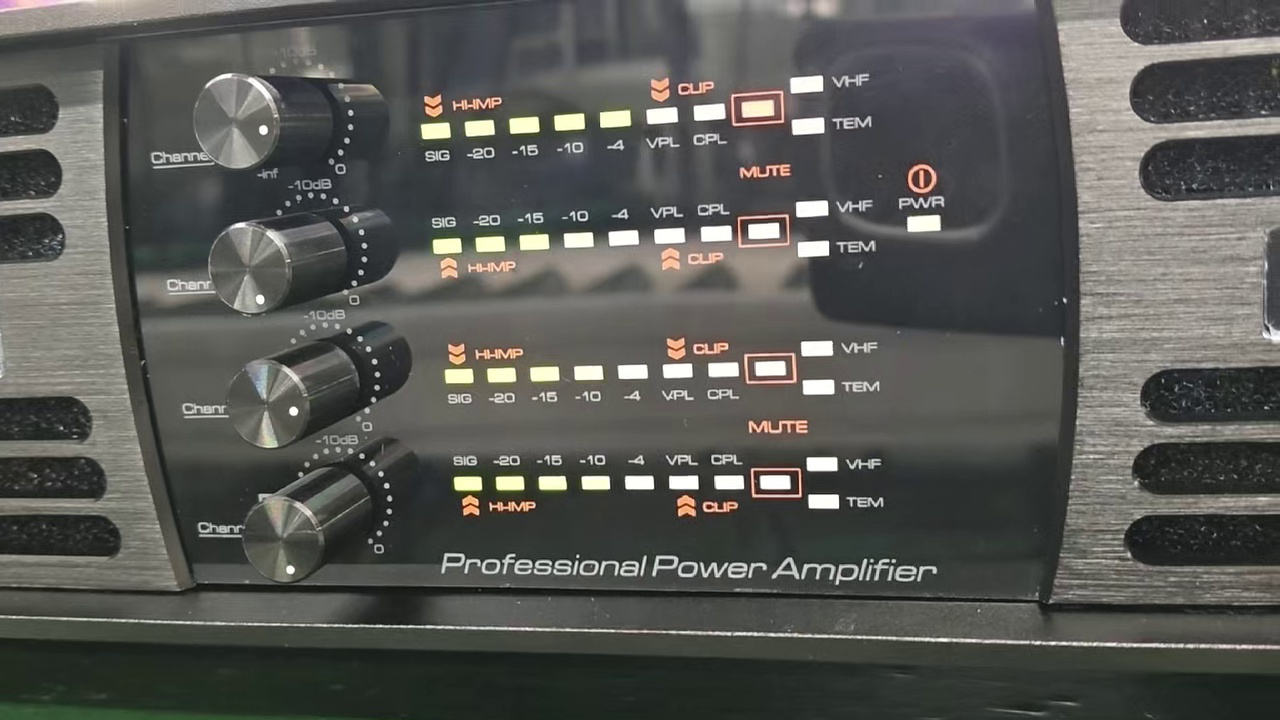FP_CPL: (689, 99, 729, 152), (705, 356, 742, 409), (695, 201, 734, 249), (711, 447, 745, 492)
FP_PWR: (895, 193, 946, 235)
FP_PWR_area: (892, 159, 952, 237)
FP_SIG_area: (414, 67, 875, 167), (430, 199, 883, 278), (444, 445, 886, 522), (437, 335, 884, 409)
FP_VPL: (642, 101, 683, 155), (658, 358, 699, 408), (648, 200, 686, 249), (664, 446, 702, 495)
